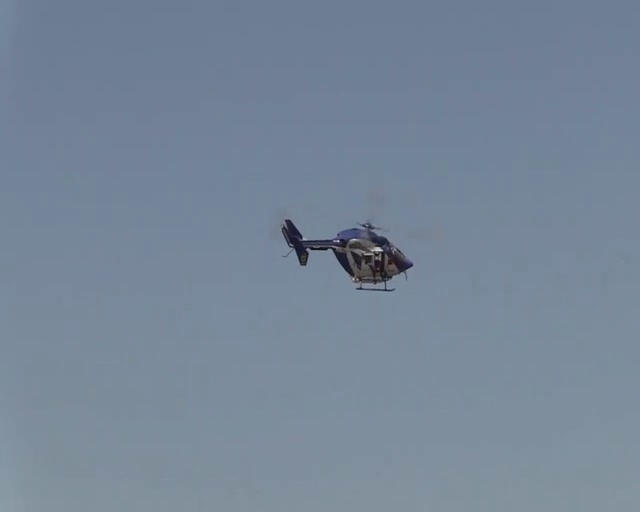HELICOPTER: (278, 217, 414, 292)
